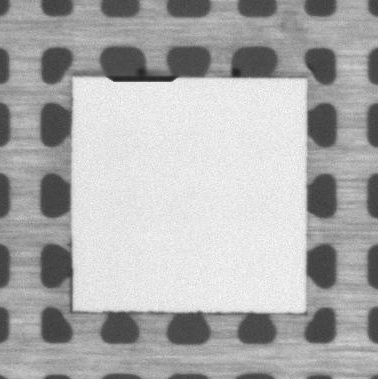DIE_BROKEN: (104, 72, 183, 83)
